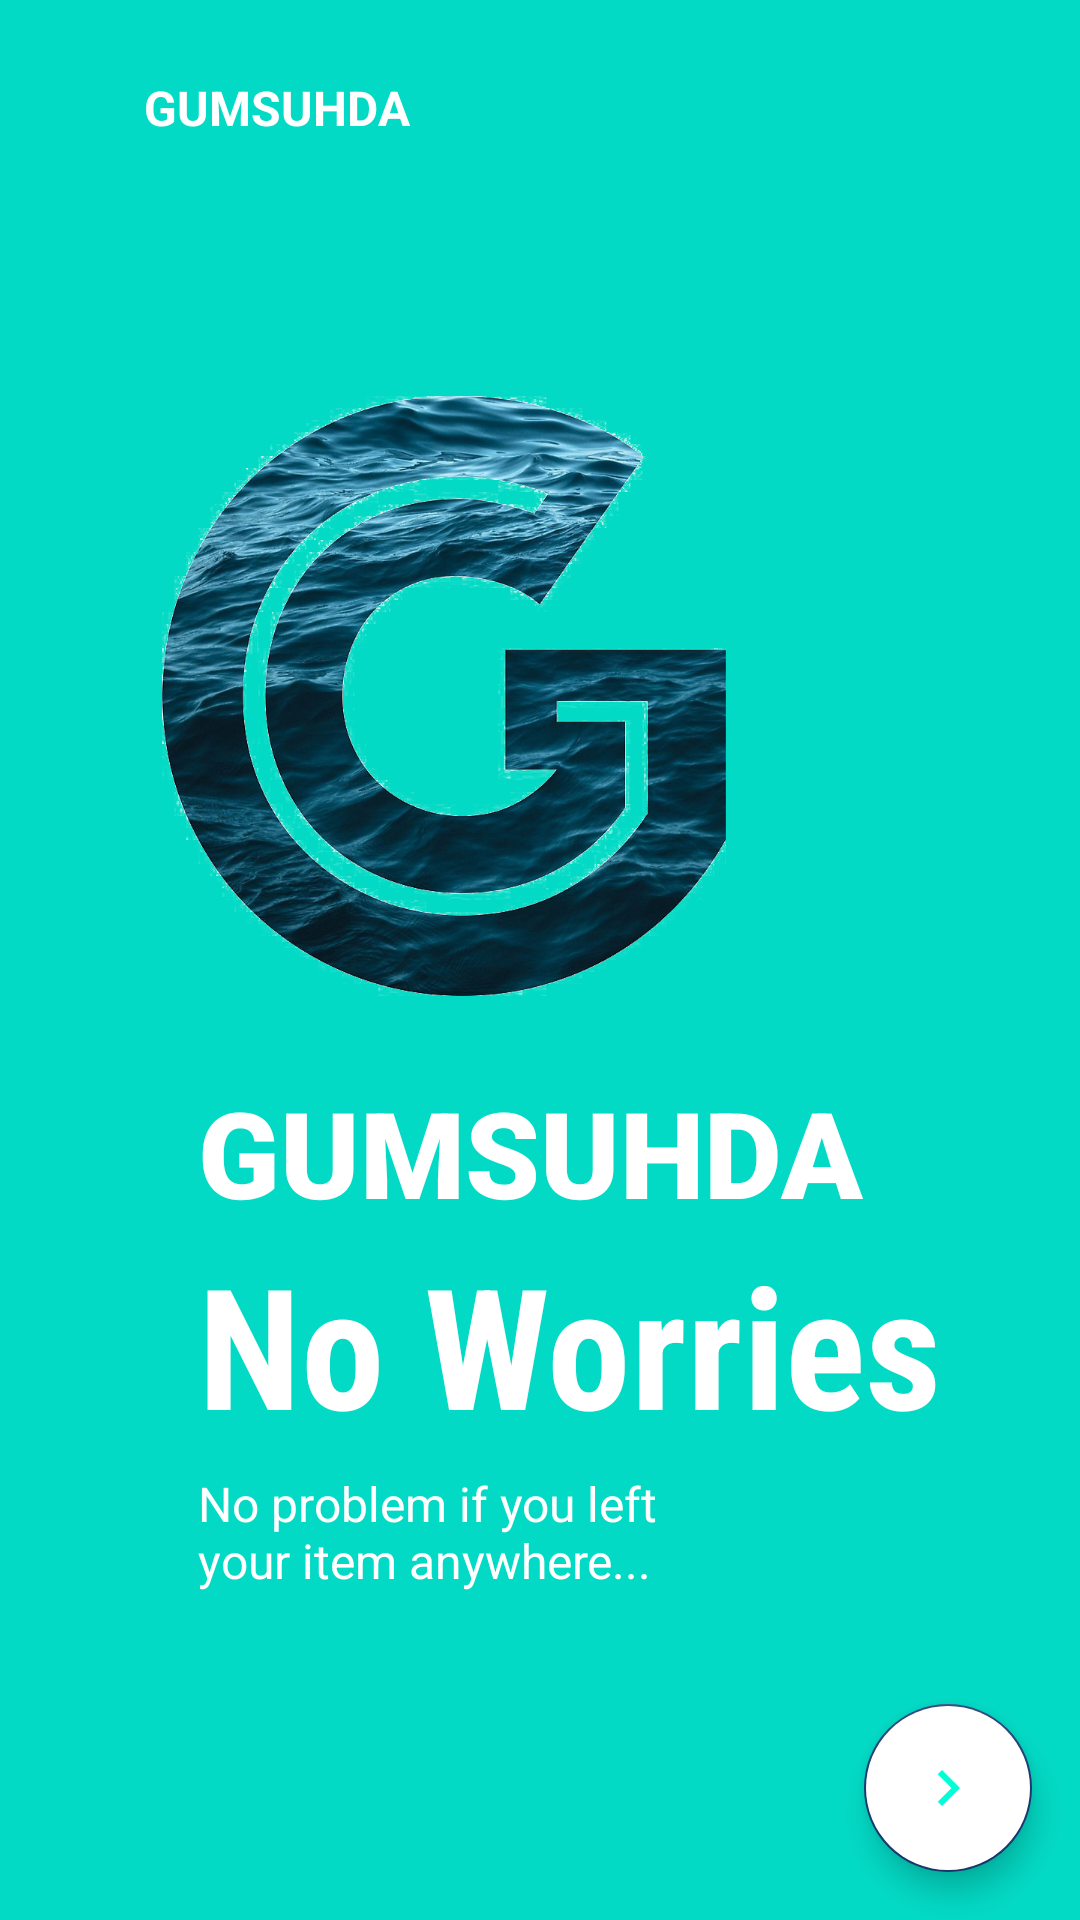

Icons on this 1080 × 1920 Android screen, each with its box as (x1, y1, x2, y2):
navigate next: (864, 1704, 1032, 1872)
